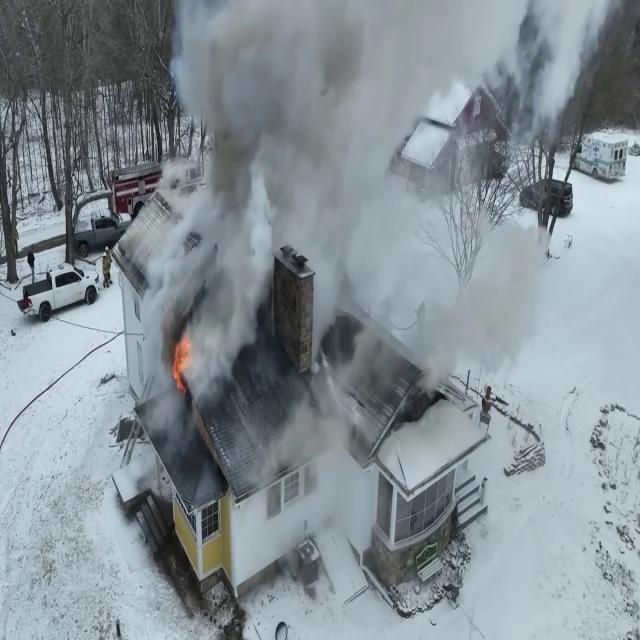Fire: (170, 324, 194, 394)
Smoke: (132, 0, 567, 413)
